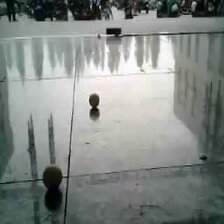w: (42, 165, 63, 190), (88, 93, 100, 108)
